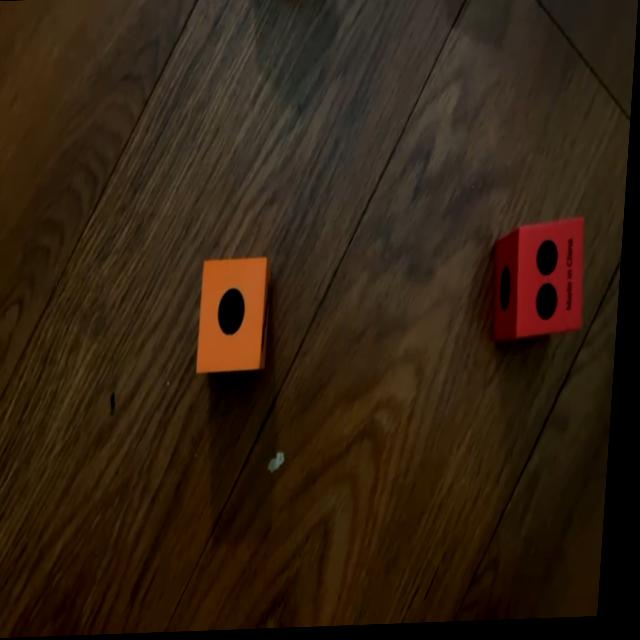red_block: (496, 220, 592, 347)
